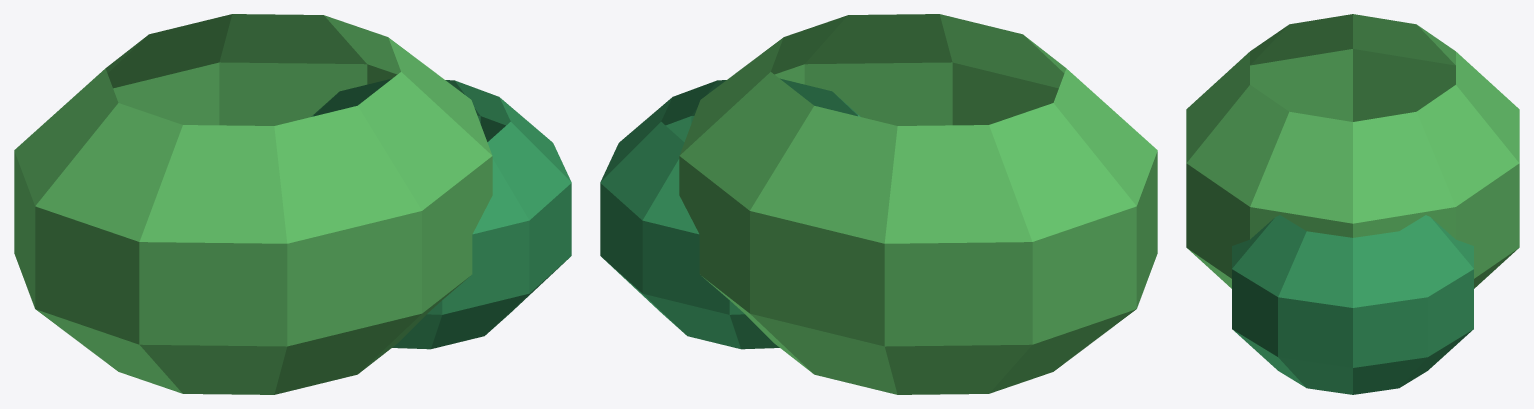
The model's file is 14_bush.obj.
3 views of the same model, side by side, from view 1: azimuth 30°, elevation 25°; view 2: azimuth 150°, elevation 25°; view 3: azimuth 270°, elevation 25° (orthographic). The views are drawn at different scales.
Visible parts, largest first — view 1: part_0, part_1; view 2: part_0, part_1; view 3: part_0, part_1.
Boxes of the visible parts, x1,y1,x2,y2 form: part_0: (14,14,492,394); part_1: (311,78,571,349); part_0: (679,14,1157,394); part_1: (600,78,860,349); part_0: (1186,14,1519,288); part_1: (1232,215,1473,394).
Bounding box in the file's own units: 1.47 × 0.8141 × 0.995.
